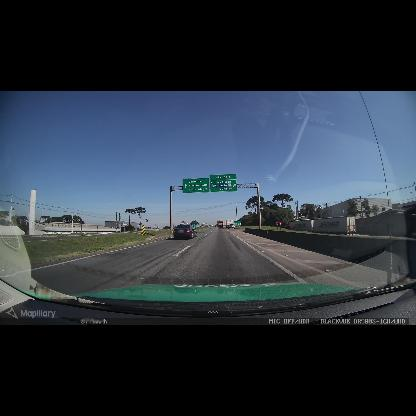O-MP: (142, 225, 146, 236)
R-2: (279, 222, 282, 226)
R-24a: (276, 221, 278, 225)
